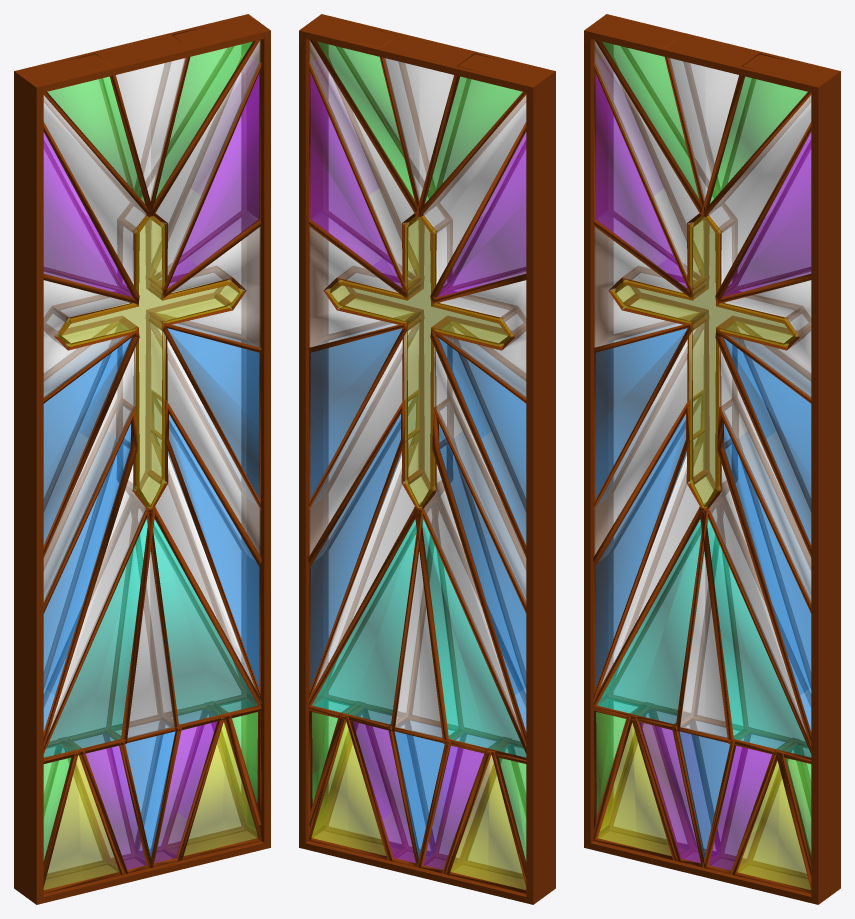
The model's file is church glass pane.fbx.
3 renders of one model, left to right at view 1: azimuth 30°, elevation 25°; view 2: azimuth 150°, elevation 25°; view 3: azimuth 330°, elevation 25°, orthographic.
Parts seen in each view (by area): view 1: Cube.001, Cube.002, Cube.009, Cube.011, Cube.010, Cube.014, Cube.003, Cube.013, Cube.005, Cube.018, Cube.015, Cube.026 (+16 smaller); view 2: Cube.001, Cube.002, Cube.009, Cube.014, Cube.010, Cube.011, Cube.003, Cube.013, Cube.005, Cube.018, Cube.015, Cube.026 (+16 smaller); view 3: Cube.001, Cube.002, Cube.009, Cube.011, Cube.010, Cube.014, Cube.003, Cube.013, Cube.005, Cube.018, Cube.015, Cube.004 (+16 smaller).
Boxes of the visible parts, bbox=[...] form: Cube.001: bbox=[44, 47, 256, 889]; Cube.002: bbox=[14, 14, 270, 904]; Cube.009: bbox=[43, 518, 257, 757]; Cube.011: bbox=[43, 73, 259, 297]; Cube.010: bbox=[43, 328, 259, 544]; Cube.014: bbox=[43, 414, 259, 731]; Cube.003: bbox=[57, 215, 242, 507]; Cube.013: bbox=[43, 389, 261, 746]; Cube.005: bbox=[43, 497, 261, 763]; Cube.018: bbox=[43, 41, 260, 283]; Cube.015: bbox=[43, 323, 260, 602]; Cube.026: bbox=[43, 722, 258, 889]; Cube.001: bbox=[313, 47, 525, 889]; Cube.002: bbox=[299, 14, 555, 904]; Cube.009: bbox=[312, 518, 526, 757]; Cube.014: bbox=[310, 414, 526, 731]; Cube.010: bbox=[310, 328, 526, 544]; Cube.011: bbox=[310, 73, 526, 297]; Cube.003: bbox=[327, 216, 512, 507]; Cube.013: bbox=[308, 389, 526, 746]; Cube.005: bbox=[308, 497, 526, 763]; Cube.018: bbox=[309, 41, 526, 283]; Cube.015: bbox=[309, 323, 526, 603]; Cube.026: bbox=[311, 722, 526, 889]; Cube.001: bbox=[600, 47, 810, 889]; Cube.002: bbox=[584, 14, 840, 904]; Cube.009: bbox=[597, 518, 811, 757]; Cube.011: bbox=[595, 73, 811, 297]; Cube.010: bbox=[595, 328, 811, 544]; Cube.014: bbox=[595, 414, 811, 731]; Cube.003: bbox=[612, 216, 797, 507]; Cube.013: bbox=[593, 389, 811, 746]; Cube.005: bbox=[593, 497, 811, 763]; Cube.018: bbox=[594, 41, 811, 283]; Cube.015: bbox=[594, 323, 811, 602]; Cube.004: bbox=[608, 203, 810, 513].
Size of the model in its own units: 600 by 2001 by 102.
